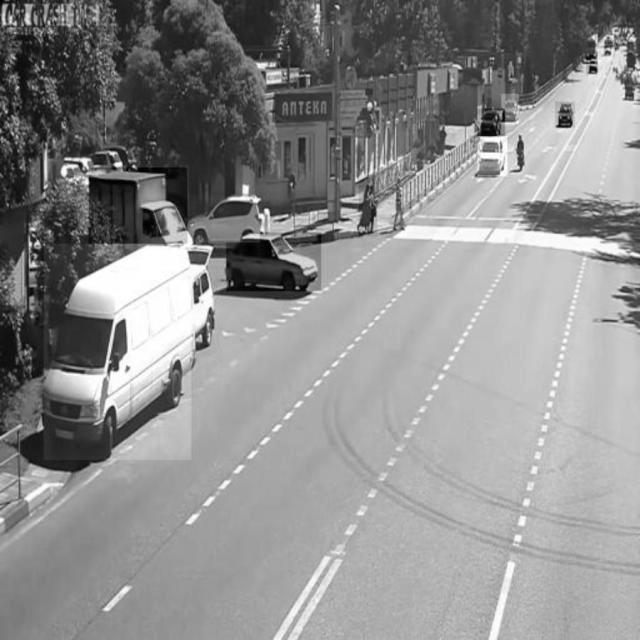person: (359, 175, 377, 236), (393, 173, 407, 233)
vehicle: (44, 244, 191, 460), (89, 168, 187, 244), (227, 232, 321, 290), (192, 196, 260, 243), (478, 137, 508, 177), (478, 109, 505, 136), (556, 102, 576, 128), (515, 126, 525, 178), (502, 94, 519, 124), (586, 55, 596, 75)
